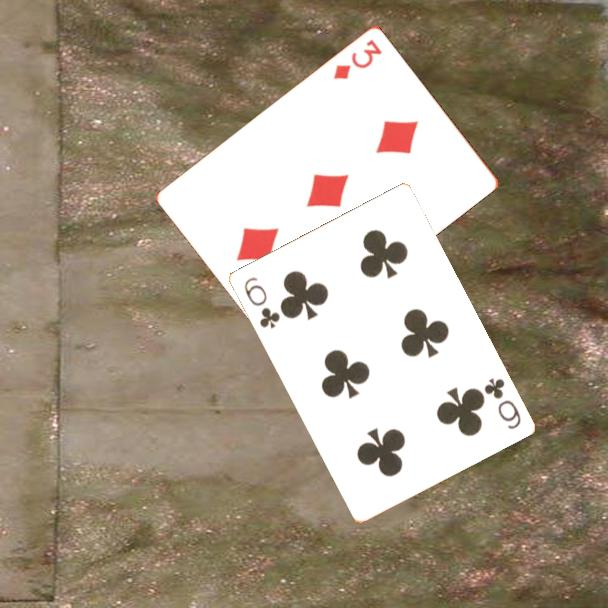c06: (240, 273, 283, 331), (480, 374, 523, 432)
d03: (330, 35, 385, 82)
